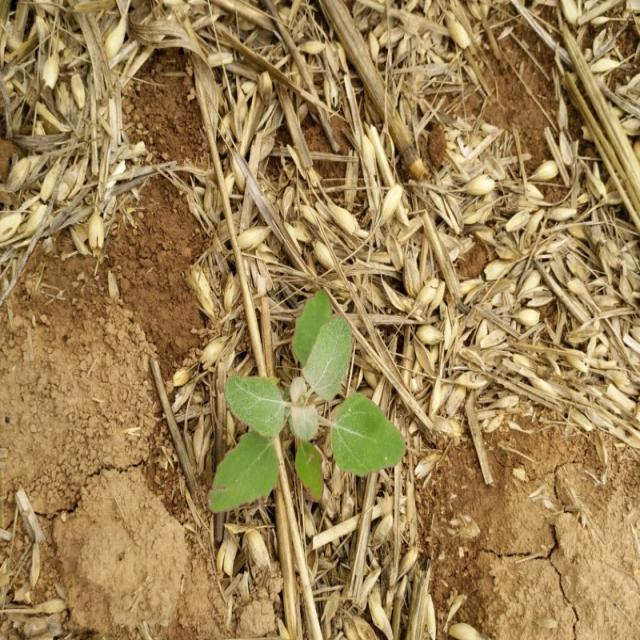ca: (212, 292, 408, 512)
